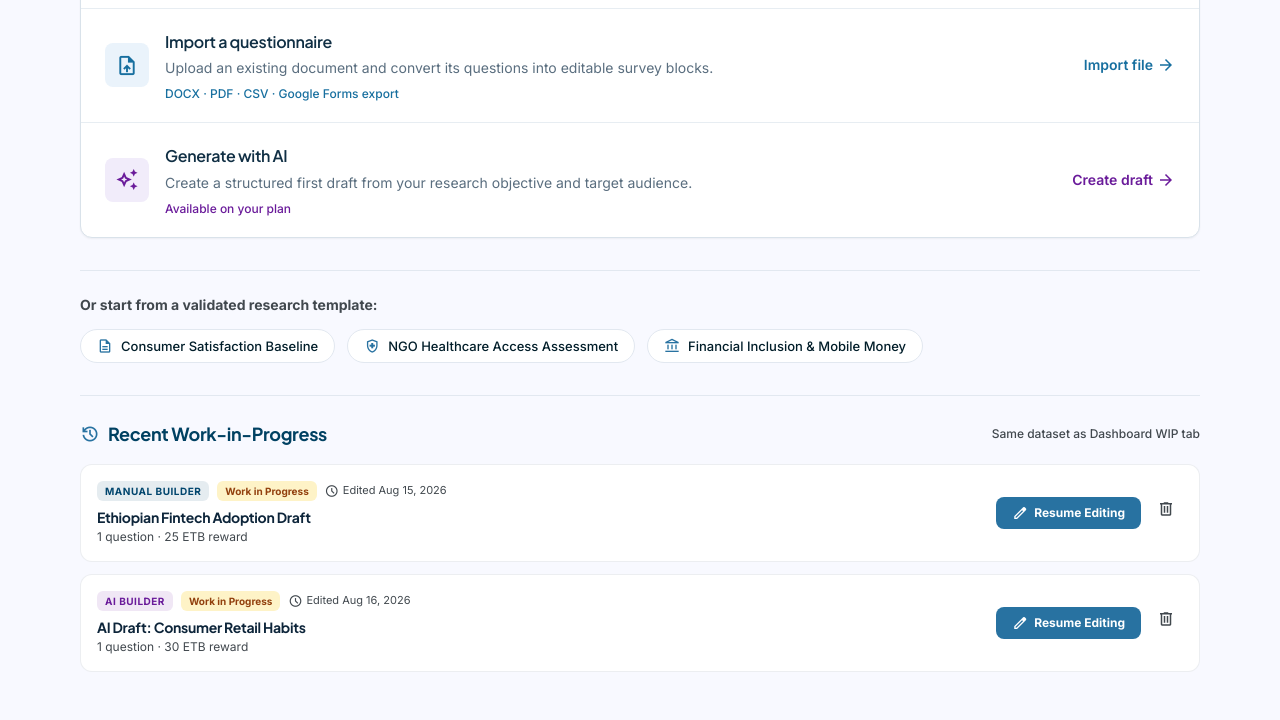
Test: Survey Builder Flow Audit (§4.3.1–4.3.5) › opens delete confirmation modal when clicking delete draft button
The image size is (1280, 720).
(page scrolled)
Check: the heading "Ethiopian Fintech Adoption Draft" is shown, box [97,508,311,526]
Click the button titled "Delete draft" in the row of "Edited Aug 15, 2026": (1166, 513) [1149,492,1183,534]
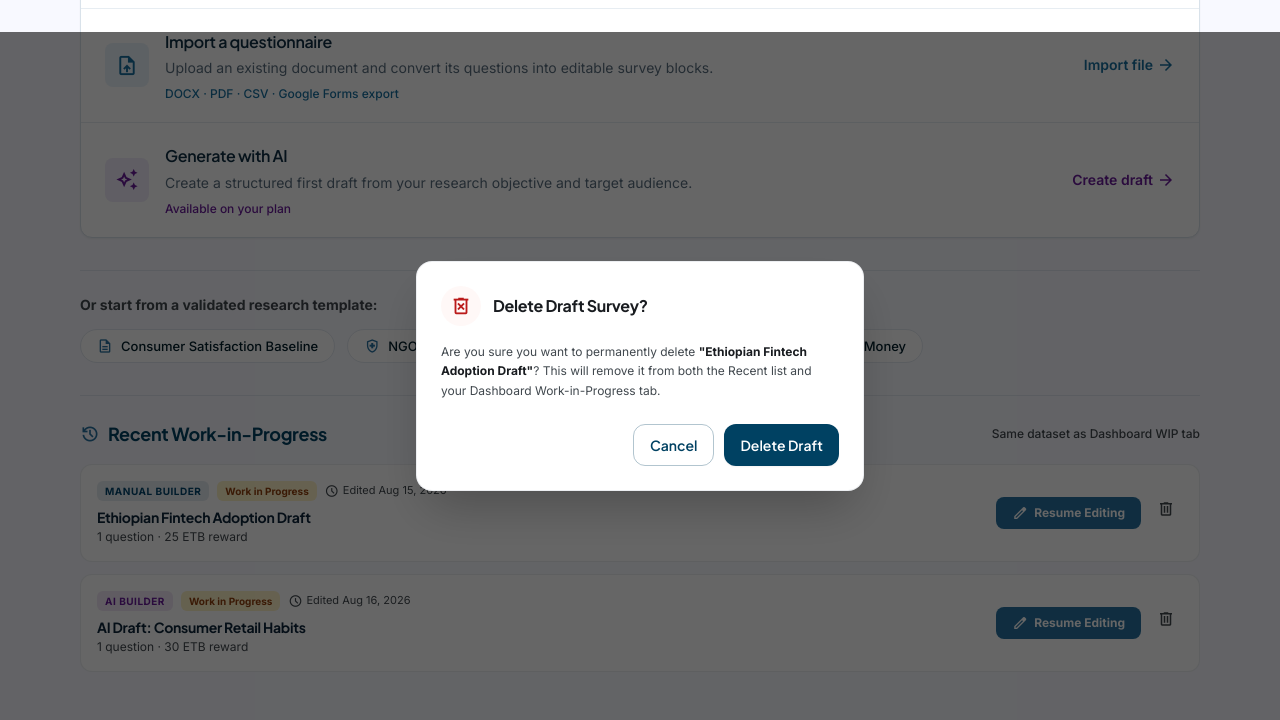
Check: the heading "Delete Draft Survey?" is shown, box [493,294,648,318]
Check: the text "Are you sure you want to permanently delete" is shown, box [441,344,695,359]
Check: the button "Cancel" is shown, box [633,424,714,466]
